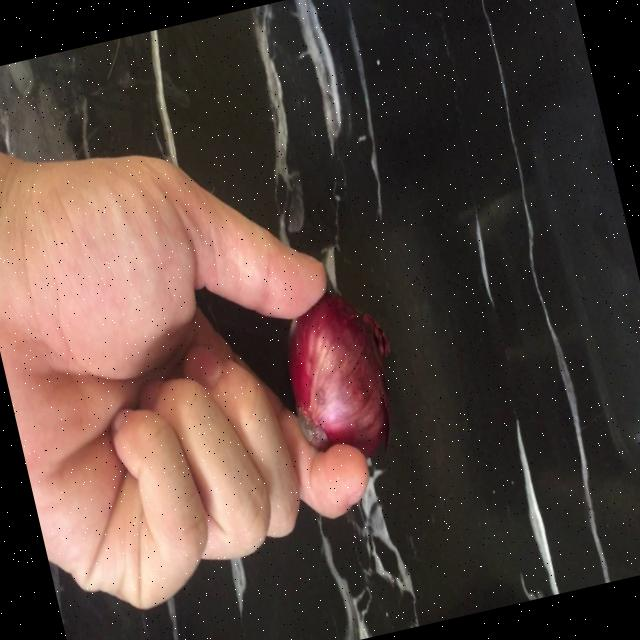Onion: (287, 293, 389, 457)
